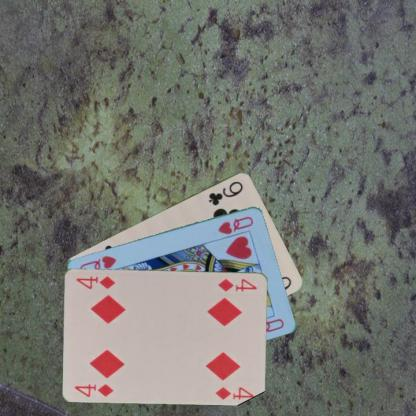4d: (72, 381, 115, 398), (216, 276, 258, 293)
9c: (206, 178, 245, 207)
Qh: (215, 213, 255, 236)
